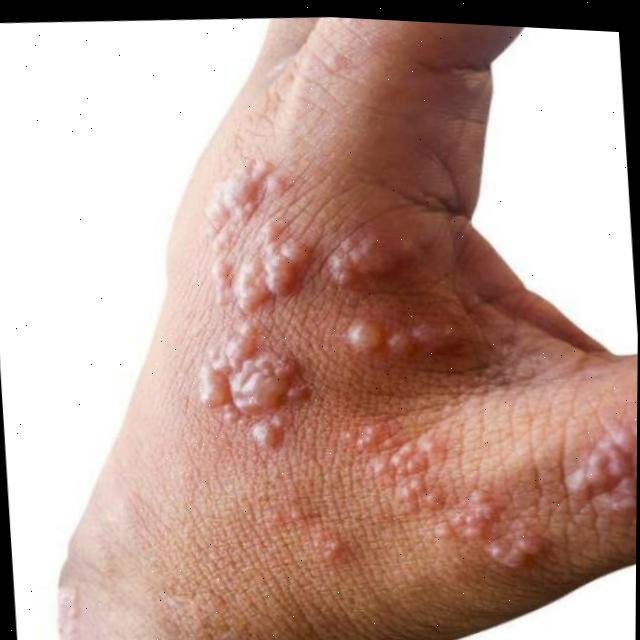Shingles: (179, 156, 325, 439), (380, 417, 501, 575), (576, 400, 637, 513), (337, 226, 380, 277), (343, 319, 392, 362)
